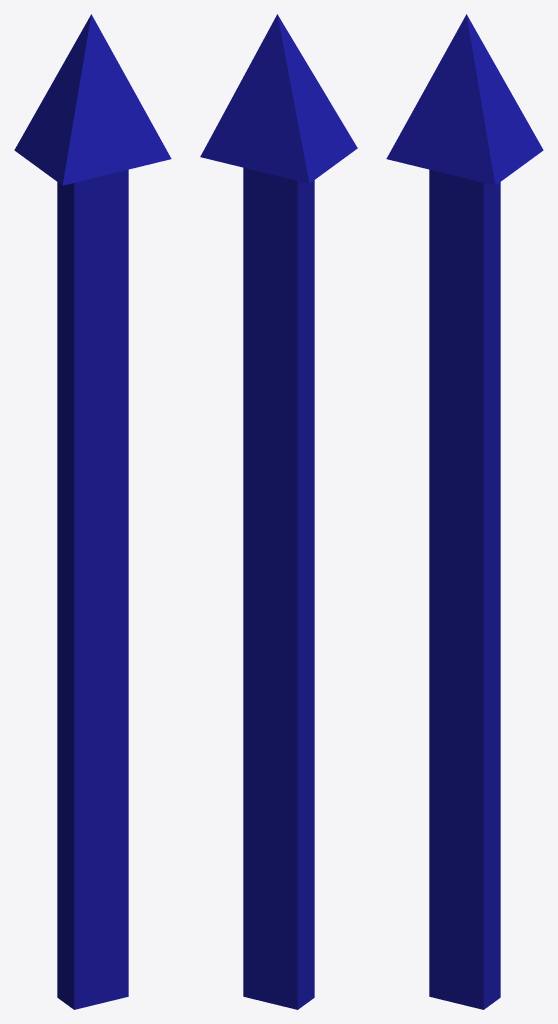
Rendered from Cerca_Estaca.FBX.
The picture shows the model from 3 angles, left to right: view 1: azimuth 30°, elevation 25°; view 2: azimuth 150°, elevation 25°; view 3: azimuth 330°, elevation 25°; orthographic projection.
Visible parts, largest first — view 1: Cerca_Estaca; view 2: Cerca_Estaca; view 3: Cerca_Estaca.
Boxes of the visible parts, box(x1,y1,x2,y2) form: Cerca_Estaca: box(14, 14, 171, 1009); Cerca_Estaca: box(200, 14, 357, 1009); Cerca_Estaca: box(386, 14, 543, 1009).
Bounding box in the file's own units: 3.92 × 33.76 × 3.01.
